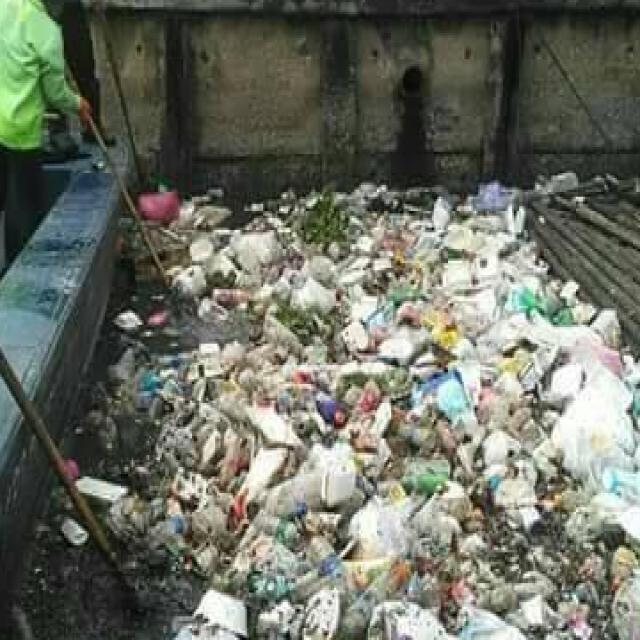-: (266, 215, 567, 640)
